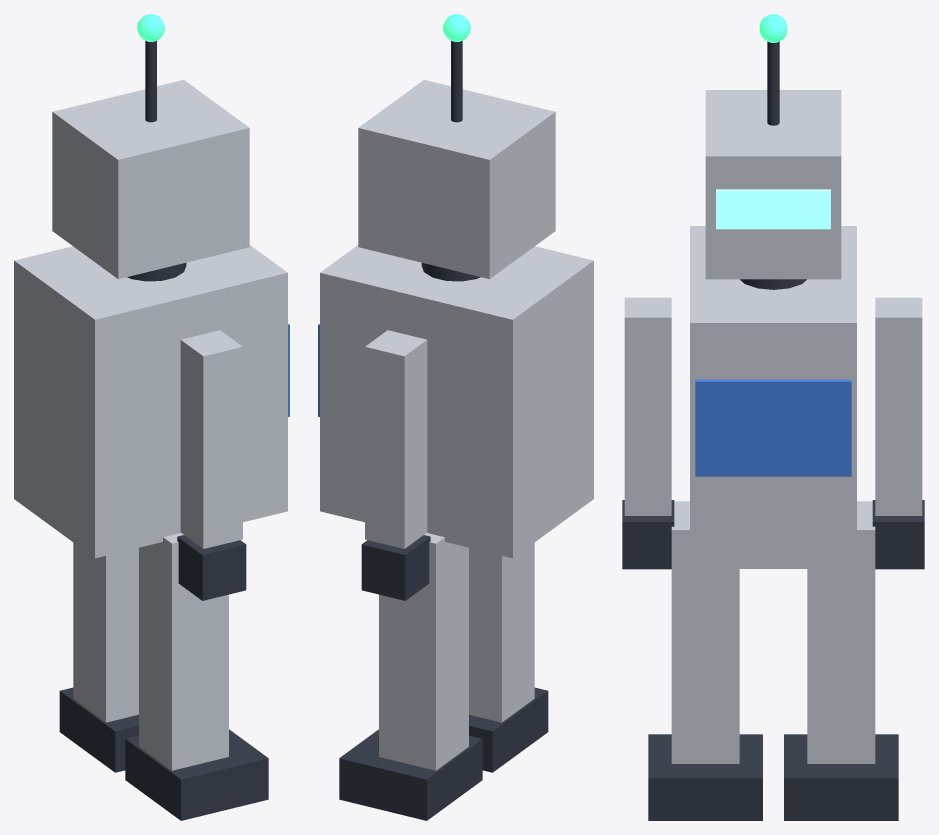
The model's file is robot.glb.
3 renders of one model, left to right at view 1: azimuth 30°, elevation 25°; view 2: azimuth 150°, elevation 25°; view 3: azimuth 270°, elevation 25°, orthographic. The views are drawn at different scales.
Parts seen in each view (by area): view 1: cuerpo, cabeza, pierna_izq, brazo_izq, pierna_der, pie_izq, mano_izq, pie_der, antena, piloto, cuello; view 2: cuerpo, cabeza, pierna_der, brazo_der, pierna_izq, pie_der, mano_der, pie_izq, antena, piloto, cuello; view 3: cuerpo, cabeza, pecho, pierna_izq, pierna_der, brazo_izq, brazo_der, pie_izq, pie_der, visor, mano_izq, mano_der (+3 smaller).
Boxes of the visible parts, x1=… form: cuerpo: x1=14, y1=245, x2=287, y2=558; cabeza: x1=52, y1=80, x2=249, y2=279; pierna_izq: x1=139, y1=533, x2=228, y2=770; brazo_izq: x1=180, y1=330, x2=242, y2=548; pierna_der: x1=73, y1=543, x2=138, y2=722; pie_izq: x1=125, y1=729, x2=268, y2=820; mano_izq: x1=177, y1=535, x2=246, y2=600; pie_der: x1=59, y1=687, x2=138, y2=772; antena: x1=145, y1=41, x2=156, y2=122; piloto: x1=137, y1=14, x2=164, y2=41; cuello: x1=127, y1=263, x2=186, y2=281; cuerpo: x1=320, y1=245, x2=593, y2=558; cabeza: x1=358, y1=80, x2=555, y2=279; pierna_der: x1=379, y1=533, x2=468, y2=770; brazo_der: x1=365, y1=330, x2=427, y2=548; pierna_izq: x1=469, y1=543, x2=534, y2=722; pie_der: x1=339, y1=729, x2=482, y2=820; mano_der: x1=361, y1=535, x2=430, y2=600; pie_izq: x1=469, y1=687, x2=548, y2=772; antena: x1=451, y1=41, x2=462, y2=122; piloto: x1=443, y1=14, x2=470, y2=41; cuello: x1=421, y1=263, x2=480, y2=281; cuerpo: x1=690, y1=226, x2=856, y2=568; cabeza: x1=705, y1=90, x2=841, y2=279; pecho: x1=695, y1=379, x2=851, y2=476; pierna_izq: x1=671, y1=501, x2=739, y2=763; pierna_der: x1=807, y1=501, x2=875, y2=763; brazo_izq: x1=624, y1=297, x2=671, y2=515; brazo_der: x1=875, y1=297, x2=922, y2=515; pie_izq: x1=648, y1=734, x2=762, y2=820; pie_der: x1=784, y1=734, x2=898, y2=820; visor: x1=716, y1=189, x2=830, y2=229; mano_izq: x1=622, y1=500, x2=674, y2=569; mano_der: x1=872, y1=500, x2=924, y2=569.
Bounding box in the file's own units: 0.45 × 1.64 × 0.58.
